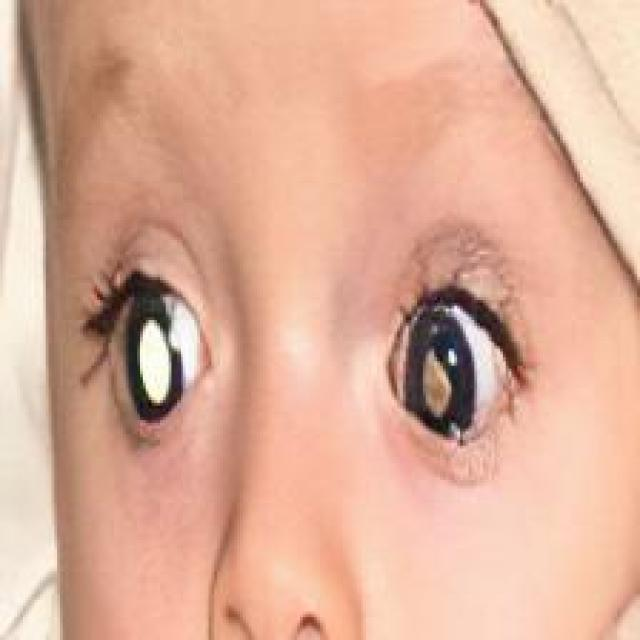reflexo-alterado: (62, 255, 240, 462), (365, 267, 521, 491)
